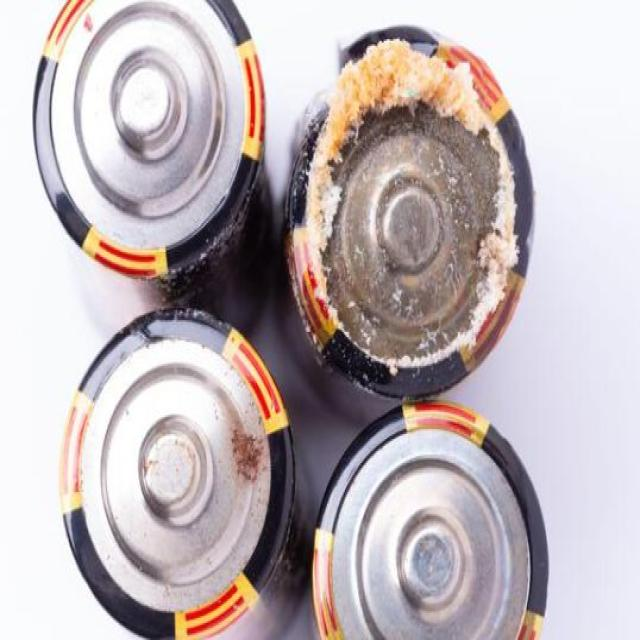electronic: (42, 301, 307, 640), (30, 0, 265, 305), (311, 369, 553, 640)
